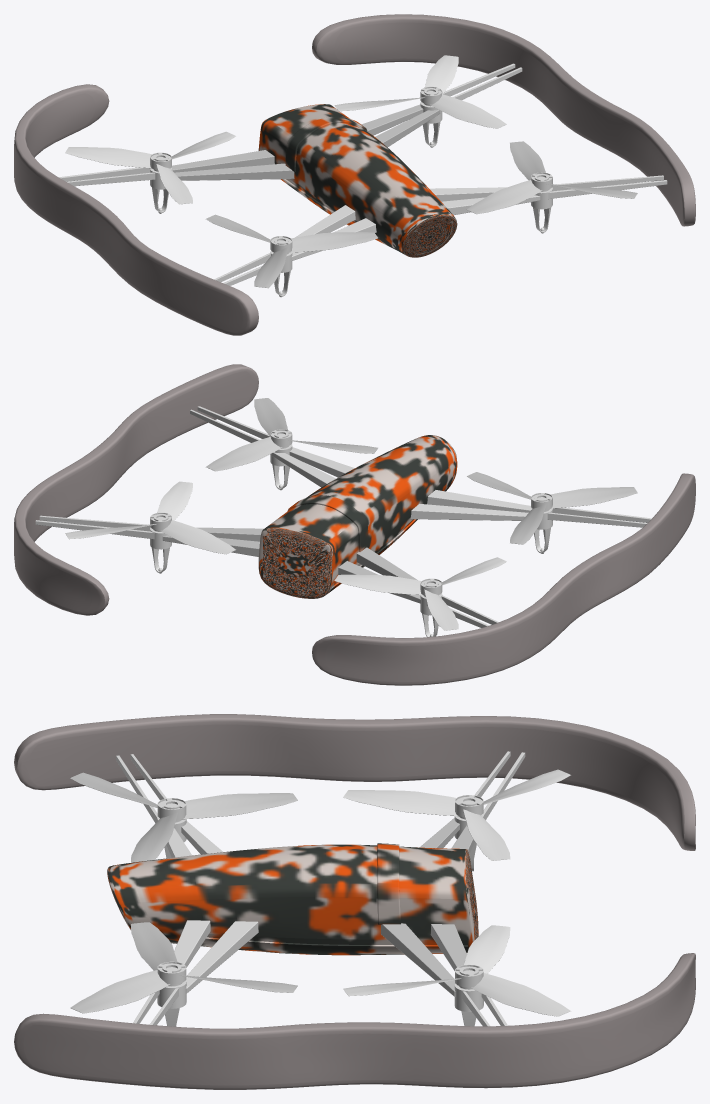
File: omfg.obj
The picture shows the model from 3 angles, top to bottom: view 1: azimuth 30°, elevation 25°; view 2: azimuth 150°, elevation 25°; view 3: azimuth 270°, elevation 25°; orthographic projection. The views are drawn at different scales.
Parts seen in each view (by area): view 1: Cubo_6, Cilindro_4, Cubo.1_5, Cubo, Cubo.2, Cubo.1, Cubo.3, Cubo_3, Cubo.3_1, Cubo.2_1, Cubo.1_1, Cubo_5 (+7 smaller); view 2: Cubo_6, Cilindro_4, Cubo.1_2, Cubo_3, Cubo.2_1, Cubo.1_3, Cubo.3_1, Cubo, Cubo.3, Cubo.2, Cubo_5, Cubo.1_4 (+7 smaller); view 3: Cubo_6, Cilindro_4, Cubo.3_1, Cubo.3, Cubo.2, Cubo.2_1, Cubo.1_2, Cubo.1_5, Cubo_3, Cubo, Cubo.1_3, Cubo.1 (+8 smaller).
Part boxes in pixels (box(x1,y1,x2,y2)): Cubo_6: box(14, 14, 695, 335); Cilindro_4: box(258, 104, 457, 257); Cubo.1_5: box(290, 180, 542, 252); Cubo: box(174, 109, 440, 180); Cubo.2: box(65, 55, 458, 168); Cubo.1: box(171, 104, 423, 172); Cubo.3: box(156, 94, 506, 204); Cubo_3: box(295, 187, 506, 237); Cubo.3_1: box(206, 141, 545, 242); Cubo.2_1: box(254, 183, 637, 288); Cubo.1_1: box(59, 63, 515, 181); Cubo_5: box(214, 175, 663, 282); Cubo_6: box(14, 364, 695, 685); Cilindro_4: box(258, 435, 457, 598); Cubo.1_2: box(161, 520, 422, 594); Cubo_3: box(272, 452, 528, 520); Cubo.2_1: box(254, 398, 637, 508); Cubo.1_3: box(289, 447, 531, 512); Cubo.3_1: box(206, 437, 546, 544); Cubo: box(196, 527, 417, 580); Cubo.3: box(157, 481, 506, 585); Cubo.2: box(65, 524, 458, 630); Cubo_5: box(190, 409, 647, 527); Cubo.1_4: box(197, 406, 651, 522); Cubo_6: box(14, 714, 695, 1089); Cilindro_4: box(107, 843, 478, 955); Cubo.3_1: box(180, 793, 297, 992); Cubo.3: box(343, 790, 461, 996); Cubo.2: box(471, 769, 570, 1016); Cubo.2_1: box(70, 772, 170, 1013); Cubo.1_2: box(463, 809, 510, 973); Cubo.1_5: box(131, 812, 177, 970); Cubo_3: box(181, 821, 258, 993); Cubo: box(381, 818, 459, 996); Cubo.1_3: box(166, 828, 210, 967); Cubo.1: box(430, 825, 474, 970).
Size of the model in its own units: 9.42 by 1.49 by 8.46.
4 materials, 3 textured.
